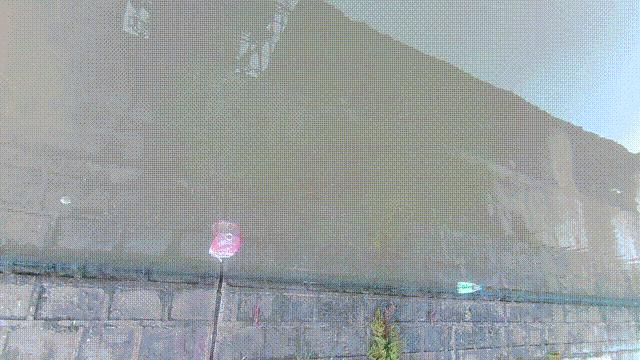Plastic: (205, 229, 243, 265), (457, 281, 483, 295)
